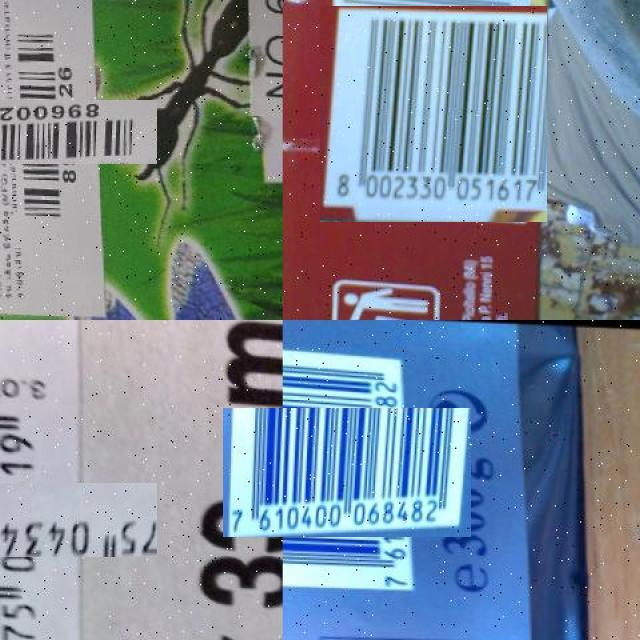Barcode: (322, 3, 544, 225), (253, 378, 442, 567), (0, 443, 116, 599), (0, 62, 120, 204)
